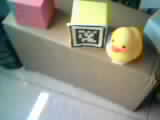duck: (99, 21, 145, 73)
